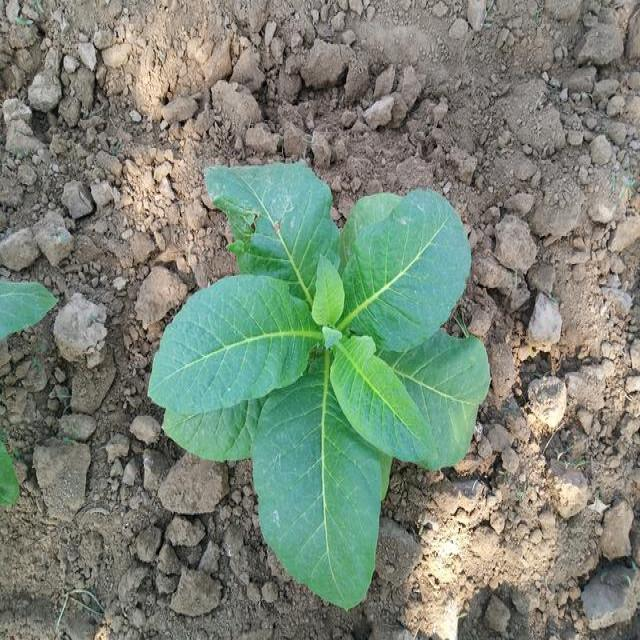crop: (160, 168, 487, 600)
